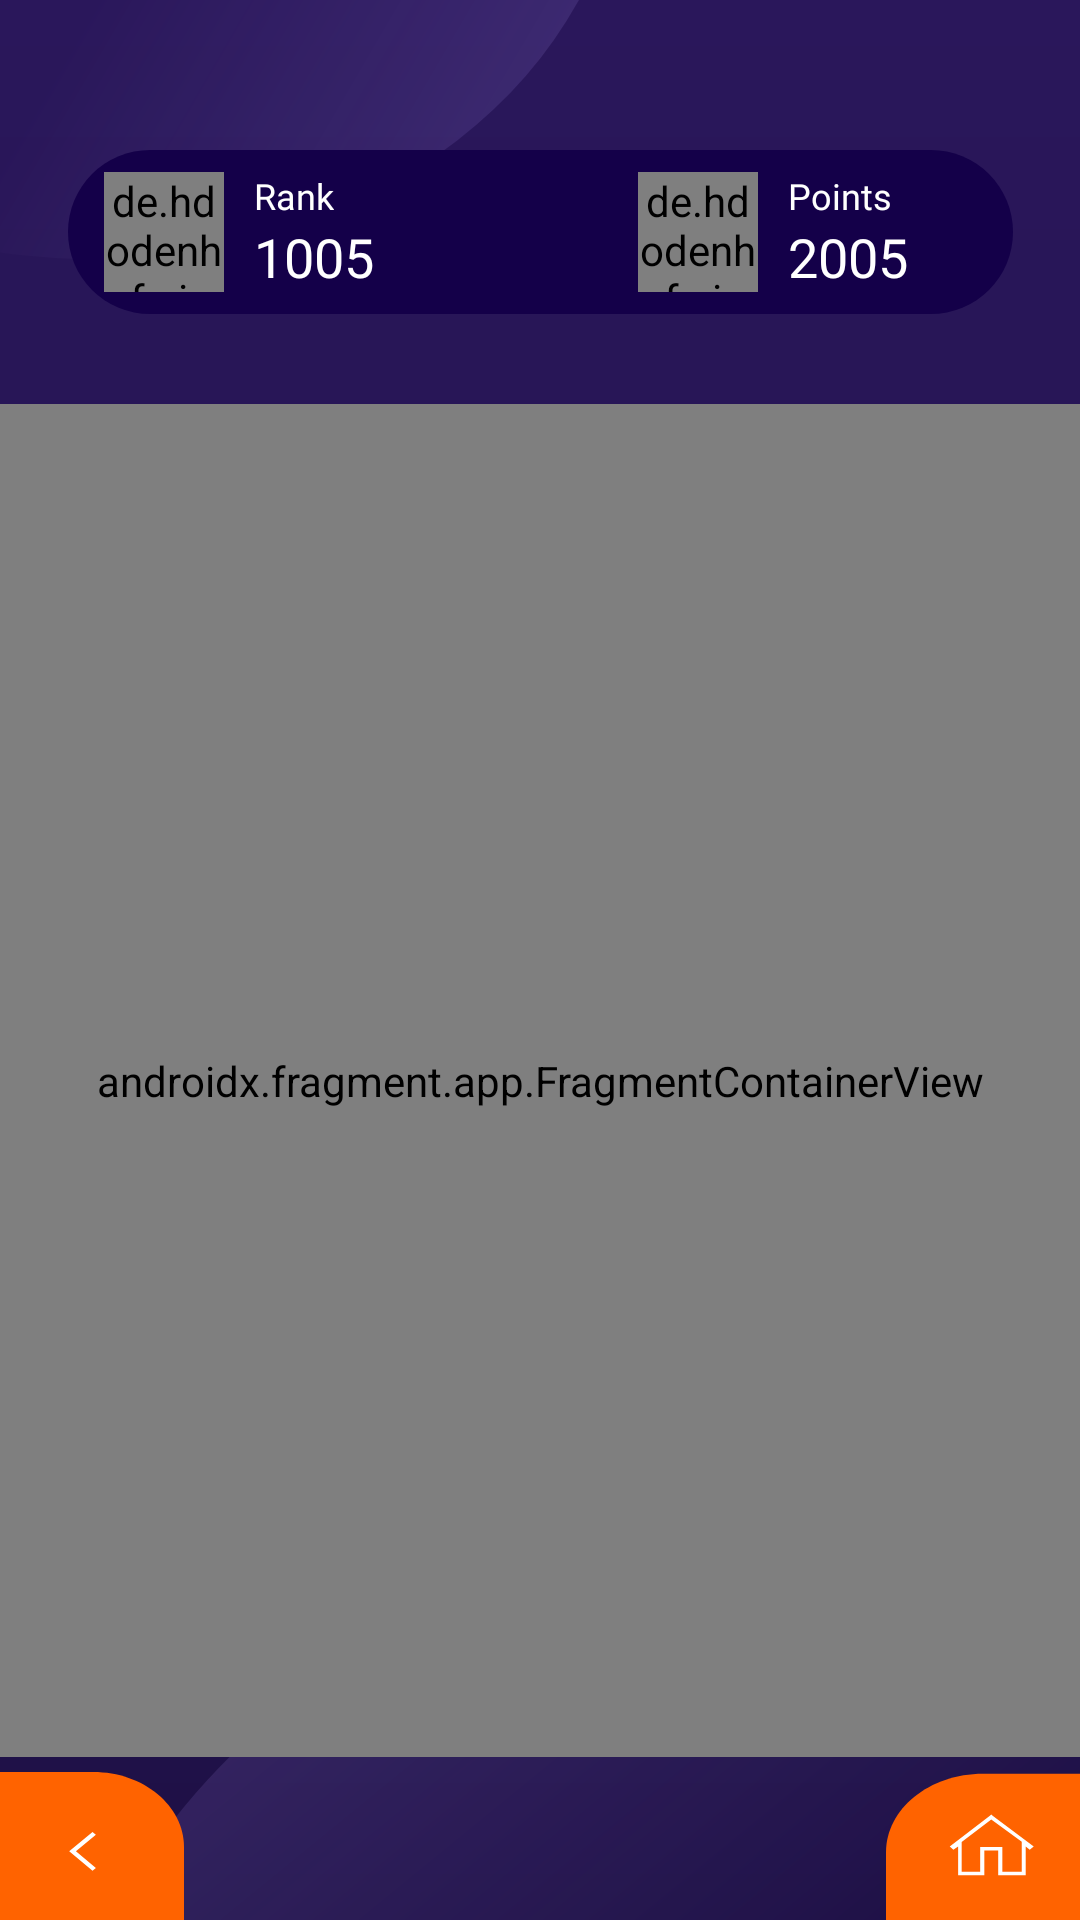

Named icons in this screenshot (1080px×1920px) and their centers, (x=x, y=y):
Back Button: (x=92, y=1846)
Home Button: (x=983, y=1846)
